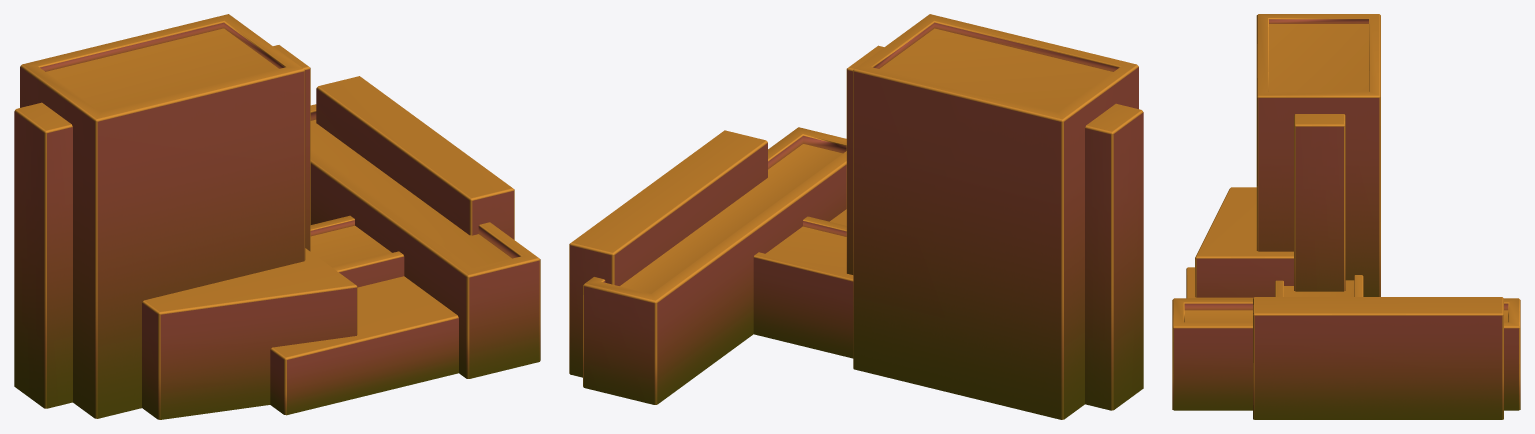
The model's file is prop_BuildingMedium02.fbx.
3 views of the same model, side by side, from view 1: azimuth 30°, elevation 25°; view 2: azimuth 150°, elevation 25°; view 3: azimuth 270°, elevation 25° (orthographic). The views are drawn at different scales.
Parts seen in each view (by area): view 1: prop_BuildingMedium02; view 2: prop_BuildingMedium02; view 3: prop_BuildingMedium02.
Part boxes in pixels (x1,y1,x2,y2): prop_BuildingMedium02: (14, 14, 540, 419); prop_BuildingMedium02: (569, 14, 1143, 419); prop_BuildingMedium02: (1172, 14, 1520, 419).
Bounding box in the file's own units: 2438 × 1565 × 2042.
